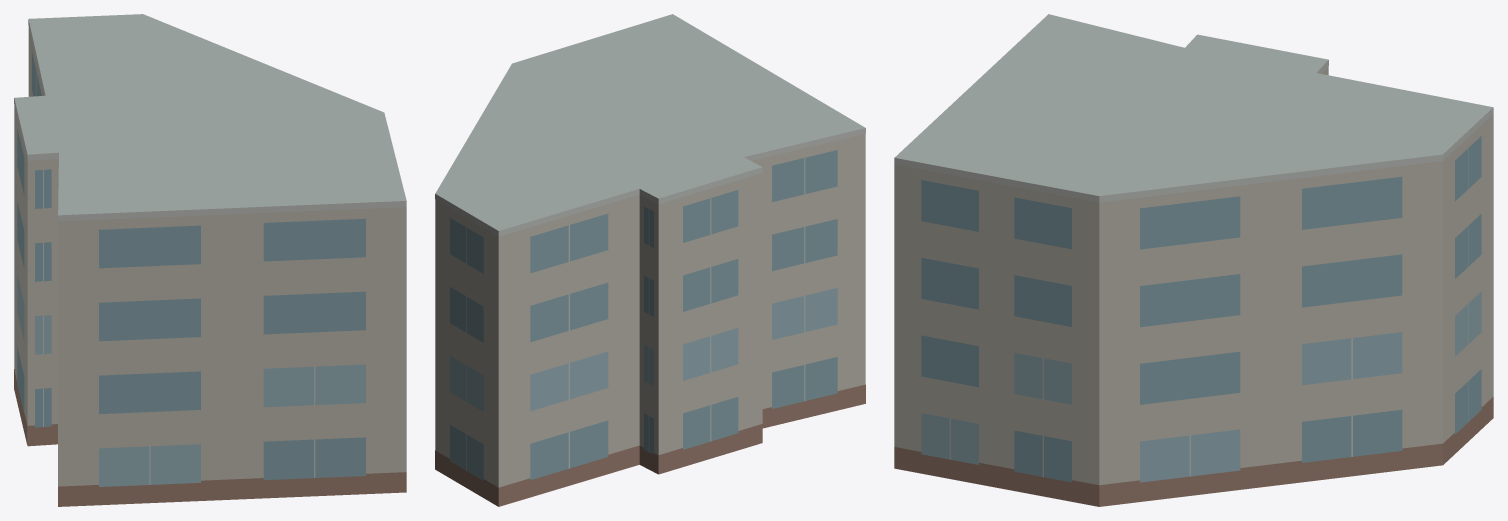
The model's file is survey-upis-32602263.glb.
The picture shows the model from 3 angles, left to right: view 1: azimuth 30°, elevation 25°; view 2: azimuth 150°, elevation 25°; view 3: azimuth 270°, elevation 25°; orthographic projection. The views are drawn at different scales.
Parts seen in each view (by area): view 1: survey-upis-32602263.tmp; view 2: survey-upis-32602263.tmp; view 3: survey-upis-32602263.tmp.
Boxes of the visible parts, left/top/right/bottom form: survey-upis-32602263.tmp: left=14, top=14, right=406, bottom=506; survey-upis-32602263.tmp: left=435, top=14, right=865, bottom=506; survey-upis-32602263.tmp: left=894, top=14, right=1493, bottom=506.
Bounding box in the file's own units: 14.71 × 11.7 × 20.45.
